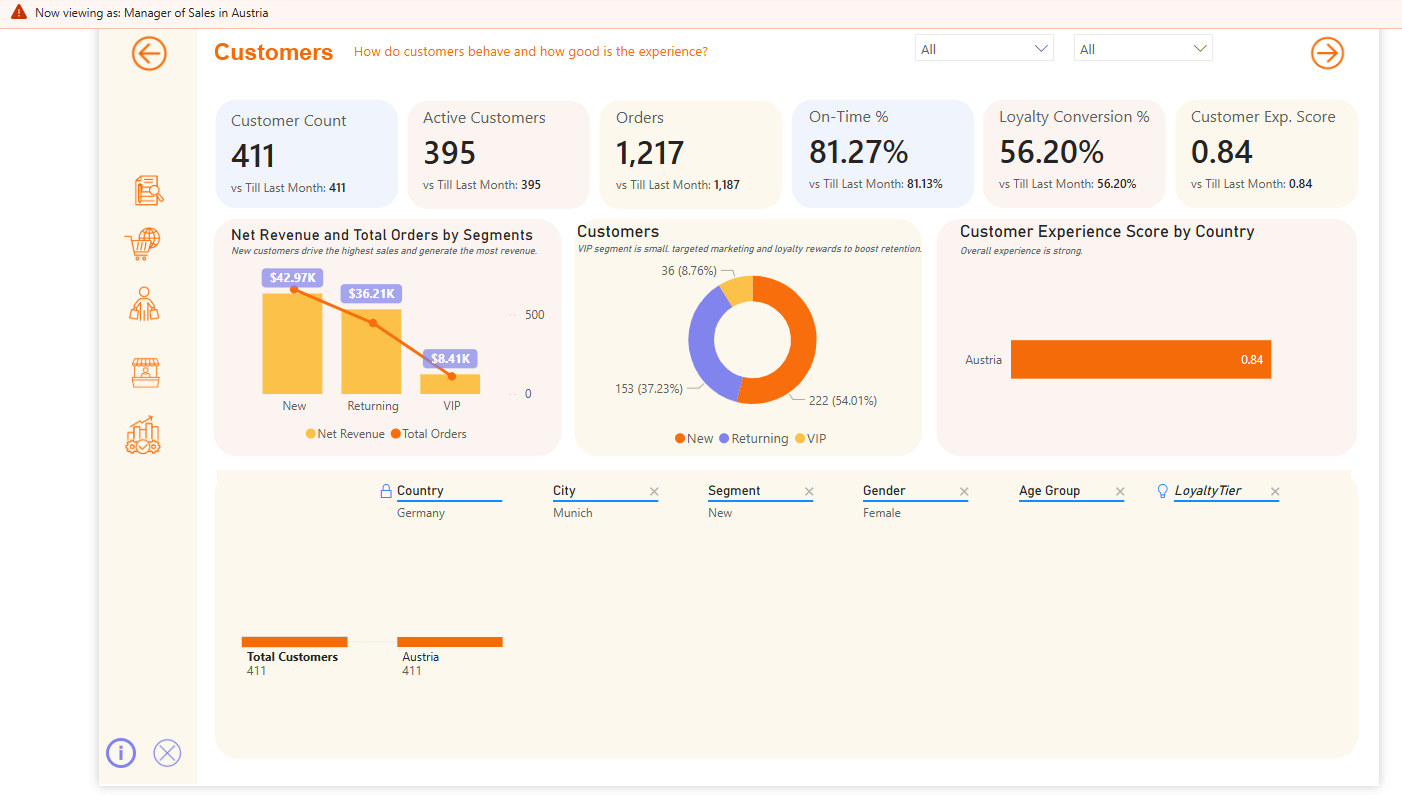

The dashboard page shown, as its layout file describes it:
{"tool":"powerbi","page":{"name":"Customers ","canvas":[1280,780],"ordinal":2},"visuals":[{"type":"lineClusteredColumnComboChart","title":"Net Revenue and Total Orders by Segments","fields":{"Category":["Customers_raw.Segment"],"Y":["Sum(Orders_2021_2024.NetRevenue)"],"Y2":["_Measures.Total Orders"]},"box":[120.6,218.8,333.6,227.6],"z":0},{"type":"donutChart","title":"Customers","fields":{"Category":["Customers_raw.Segment"],"Y":["_Measures.Customer Count"]},"box":[474.7,214,357.9,236.4],"z":1000},{"type":"cardVisual","fields":{"Data":["_Measures.On-Time %"]},"box":[705,104,151,111],"z":2000},{"type":"cardVisual","fields":{"Data":["_Measures.Customer Count"]},"box":[127,108,181,111],"z":3000},{"type":"cardVisual","fields":{"Data":["_Measures.Total Orders"]},"box":[512,105,156,111],"z":4000},{"type":"textbox","box":[250,31,376,34],"z":5000},{"type":"cardVisual","fields":{"Data":["_Measures.Active Customers"]},"box":[319,105,183,111],"z":6000},{"type":"decompositionTreeVisual","fields":{"Analyze":["Count(Customers_raw.CustomerID)"],"ExplainBy":["Customers_raw.Country","Customers_raw.City","Customers_raw.Segment","Customers_raw.Gender","Customers_raw.Age Group","Customers_raw.LoyaltyTier"]},"box":[113.4,458.8,1143.3,306.2],"z":7000},{"type":"cardVisual","fields":{"Data":["_Measures.Loyalty Conversion %"]},"box":[895,104,229,111],"z":8000},{"type":"cardVisual","fields":{"Data":["_Measures.Customer Experience Score"]},"box":[1087,104,193,111],"z":9000},{"type":"clusteredBarChart","fields":{"Category":["Customers_raw.Country"],"Y":["_Measures.Customer Experience Score"]},"box":[848.1,219.8,424.1,236.4],"z":10000},{"type":"image","box":[9.3,160.8,79,49],"z":11000},{"type":"image","box":[9.3,208.8,70,58],"z":12000},{"type":"image","box":[1190.7,12.4,75.3,70.1],"z":13000},{"type":"image","box":[9.3,267.8,70,58],"z":14000},{"type":"image","box":[5.2,8.2,78.4,78.4],"z":15000},{"type":"image","box":[9.3,338.8,79,58],"z":16000},{"type":"image","box":[9.3,404.8,70,51],"z":17000},{"type":"actionButton","box":[13.6,726.6,44.7,40.9],"z":19000},{"type":"image","box":[36,727,63,40],"z":20000},{"type":"slicer","fields":{"Values":["Calendar.Year"]},"box":[806.3,12.6,158.5,62.2],"z":21000},{"type":"slicer","fields":{"Values":["Calendar.Month Year"]},"box":[963.9,12.6,159.5,62.2],"z":22000}]}

Visuals, with their boxes on the page's 1280x780 design canvas (x1, y1, x2, y2). These are canvas units, not pixel positions in the 1402x795 screenshot, which may show the page scaled, cropped or inside an application window:
"Net Revenue and Total Orders by Segments" lineClusteredColumnComboChart: box=[121, 219, 454, 446]
"Customers" donutChart: box=[475, 214, 833, 450]
cardVisual - _Measures.On-Time %: box=[705, 104, 856, 215]
cardVisual - _Measures.Customer Count: box=[127, 108, 308, 219]
cardVisual - _Measures.Total Orders: box=[512, 105, 668, 216]
textbox: box=[250, 31, 626, 65]
cardVisual - _Measures.Active Customers: box=[319, 105, 502, 216]
decompositionTreeVisual - Count(Customers_raw.CustomerID) x Customers_raw.Country: box=[113, 459, 1257, 765]
cardVisual - _Measures.Loyalty Conversion %: box=[895, 104, 1124, 215]
cardVisual - _Measures.Customer Experience Score: box=[1087, 104, 1280, 215]
clusteredBarChart - Customers_raw.Country x _Measures.Customer Experience Score: box=[848, 220, 1272, 456]
image: box=[9, 161, 88, 210]
image: box=[9, 209, 79, 267]
image: box=[1191, 12, 1266, 82]
image: box=[9, 268, 79, 326]
image: box=[5, 8, 84, 87]
image: box=[9, 339, 88, 397]
image: box=[9, 405, 79, 456]
actionButton: box=[14, 727, 58, 768]
image: box=[36, 727, 99, 767]
slicer - Calendar.Year: box=[806, 13, 965, 75]
slicer - Calendar.Month Year: box=[964, 13, 1123, 75]
